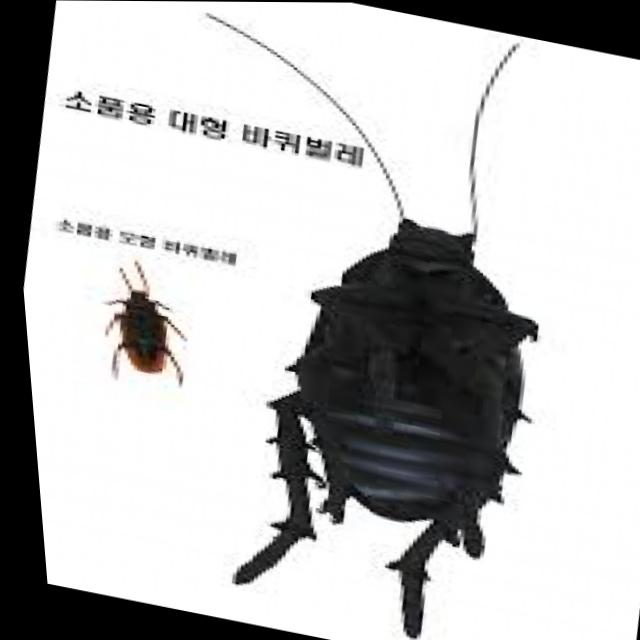Cockroach: (159, 1, 629, 640), (58, 238, 215, 414)
